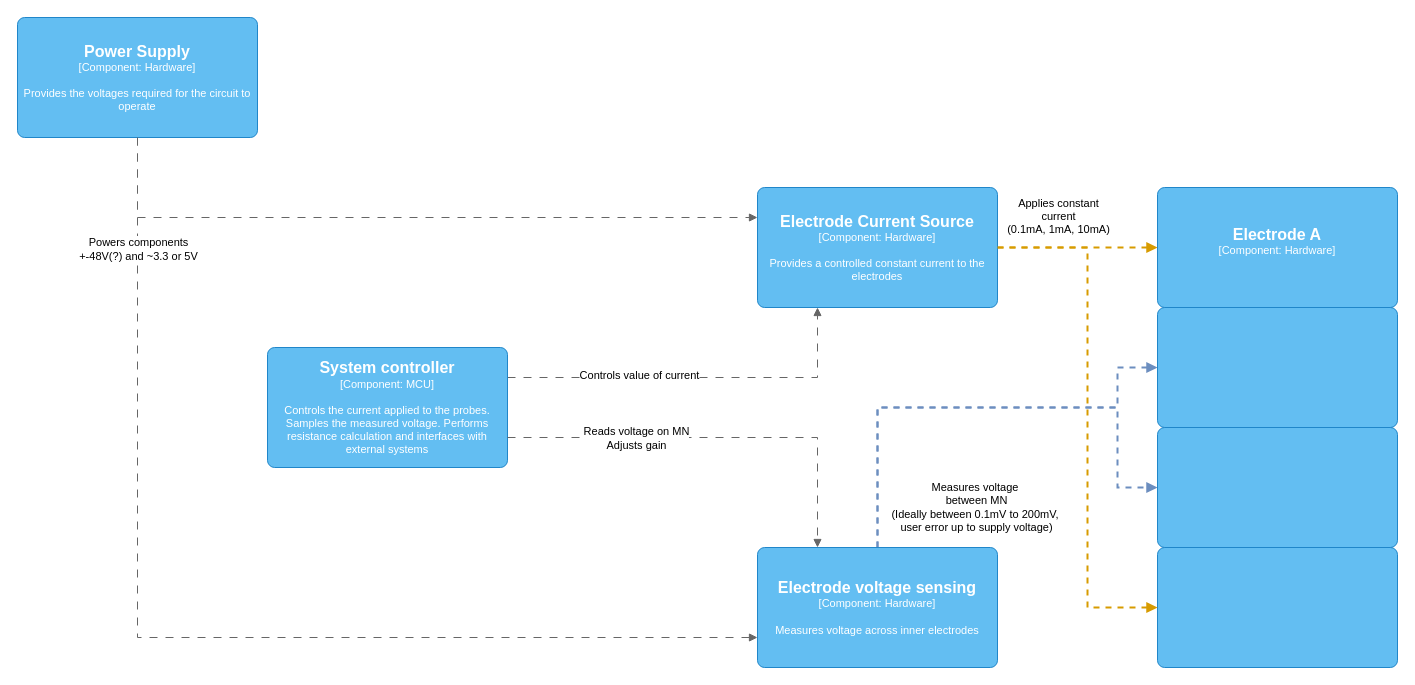
This 1415x685 diagram has some shape labels left out. The centre of each missing label's shape, as x and y in pixels:
"Electrode B [Component: Hardware]" belongs at (x=1277, y=607).
"Electrode M [Component: Hardware]" belongs at (x=1277, y=367).
"Electrode N [Component: Hardware]" belongs at (x=1277, y=487).
